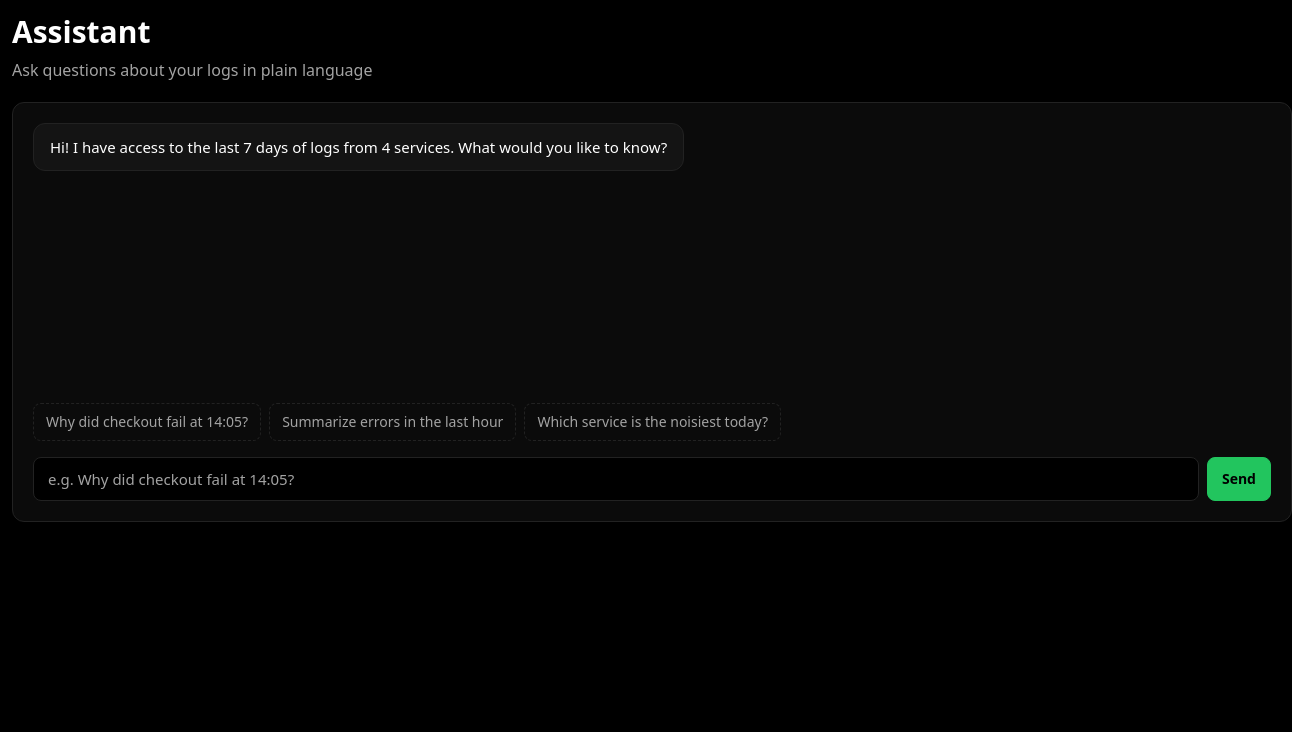
Test: AssistantPage › answers when Send is clicked
In the field named "Message": (616, 479) [33,457,1199,501], type "hello"
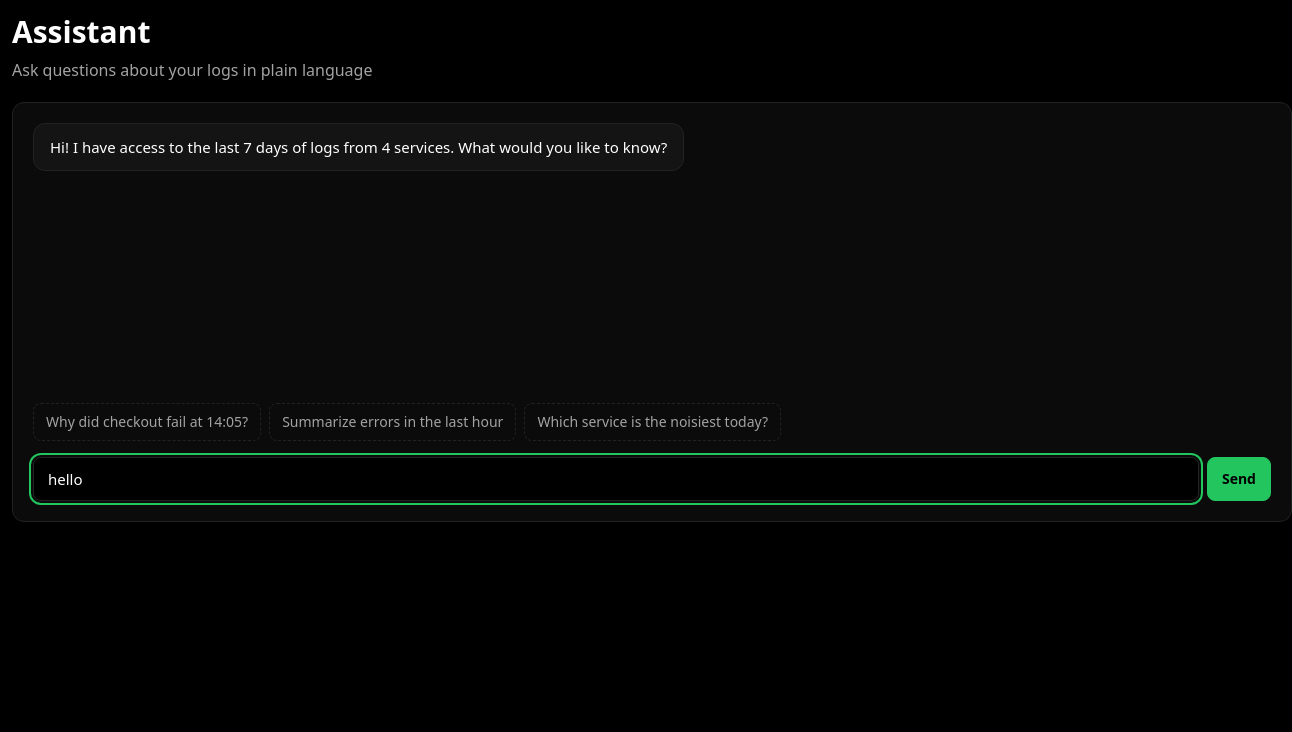
Click the button "Send": (1239, 479) [1207,457,1271,501]
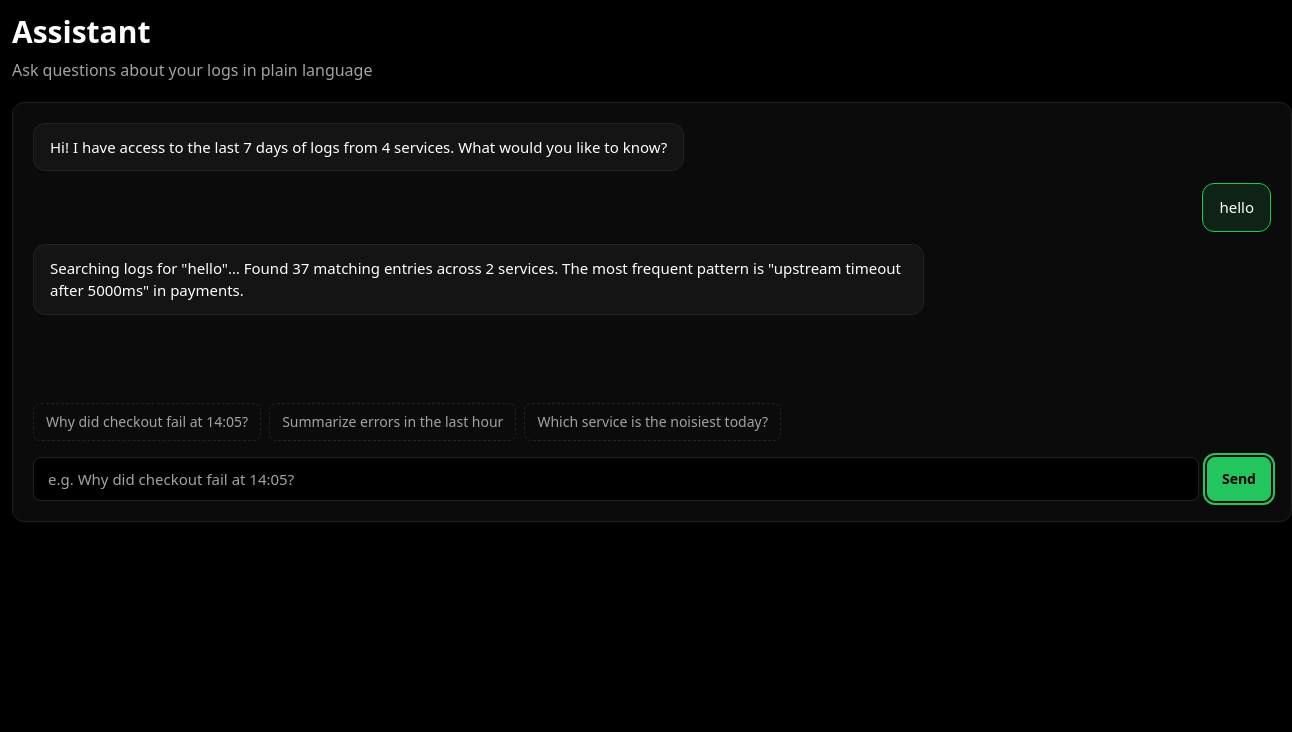
Result: the text "Searching logs for \"hello\"" is shown at [50,258,901,300]
